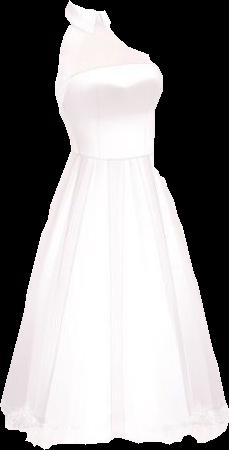Bodice: (55, 0, 162, 162)
Hemline: (0, 403, 228, 449)
Neckline: (53, 58, 151, 94), (67, 0, 105, 16)
Skirt: (1, 153, 228, 448)
Waistline: (68, 149, 155, 164)
